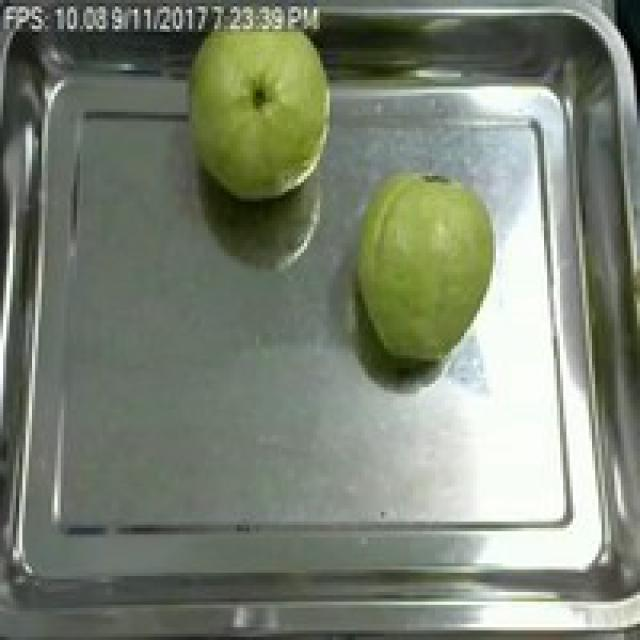Fruit: (342, 160, 509, 374), (176, 3, 342, 211)
